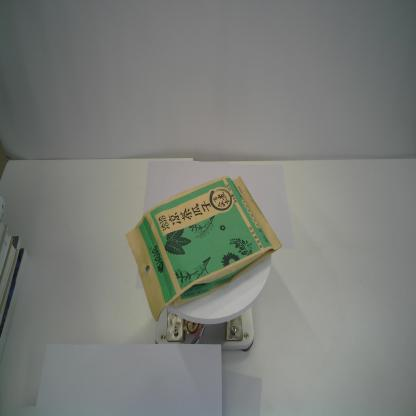Dried Food: (124, 173, 284, 324)
